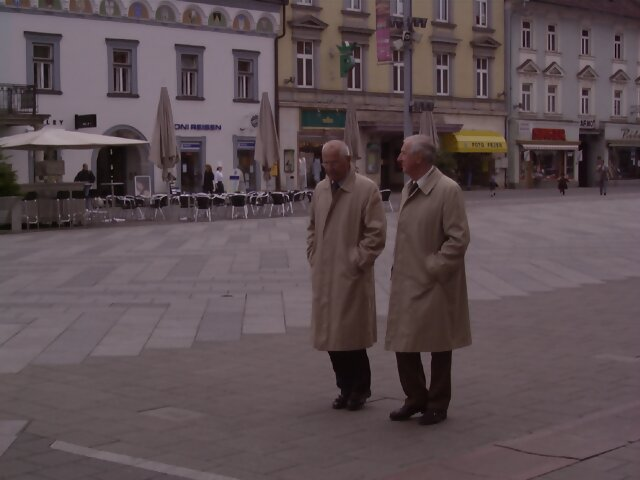person: (388, 132, 484, 432), (302, 135, 392, 418)
